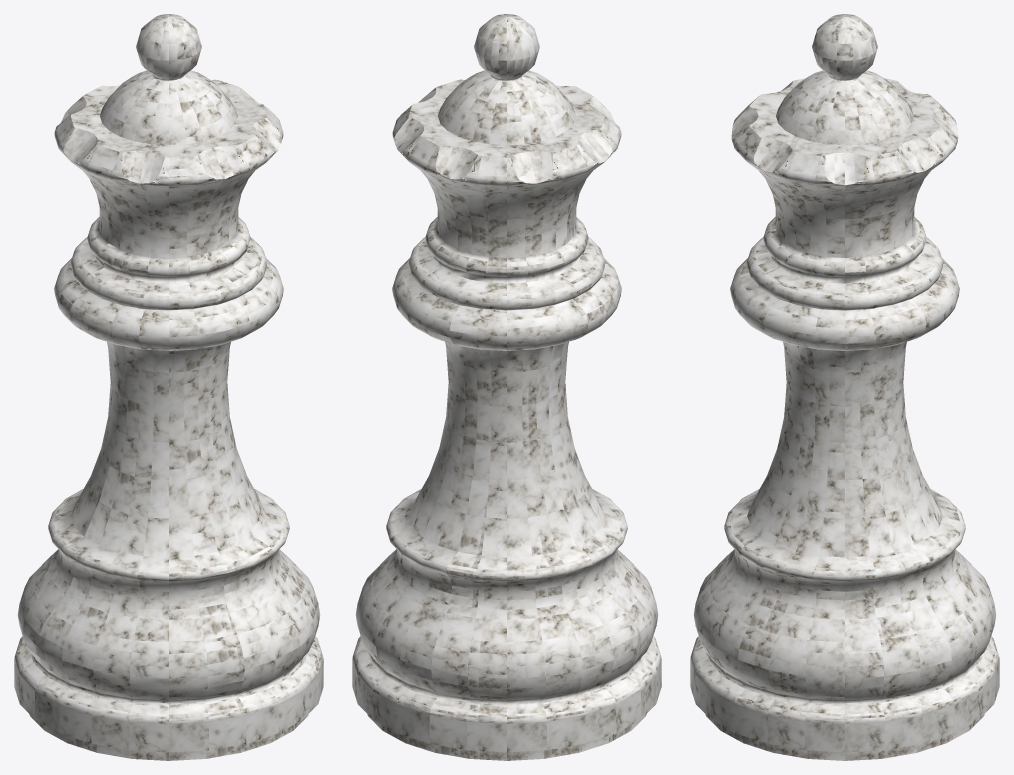
Rendered from queen.fbx.
The picture shows the model from 3 angles, left to right: view 1: azimuth 30°, elevation 25°; view 2: azimuth 150°, elevation 25°; view 3: azimuth 270°, elevation 25°; orthographic projection.
Parts seen in each view (by area): view 1: Model; view 2: Model; view 3: Model.
Part boxes in pixels (x1=…): Model: x1=14, y1=14, x2=323, y2=760; Model: x1=352, y1=14, x2=661, y2=760; Model: x1=690, y1=14, x2=999, y2=760.
Size of the model in its own units: 13.95 by 34.02 by 13.95.
1 material, 1 textured.
